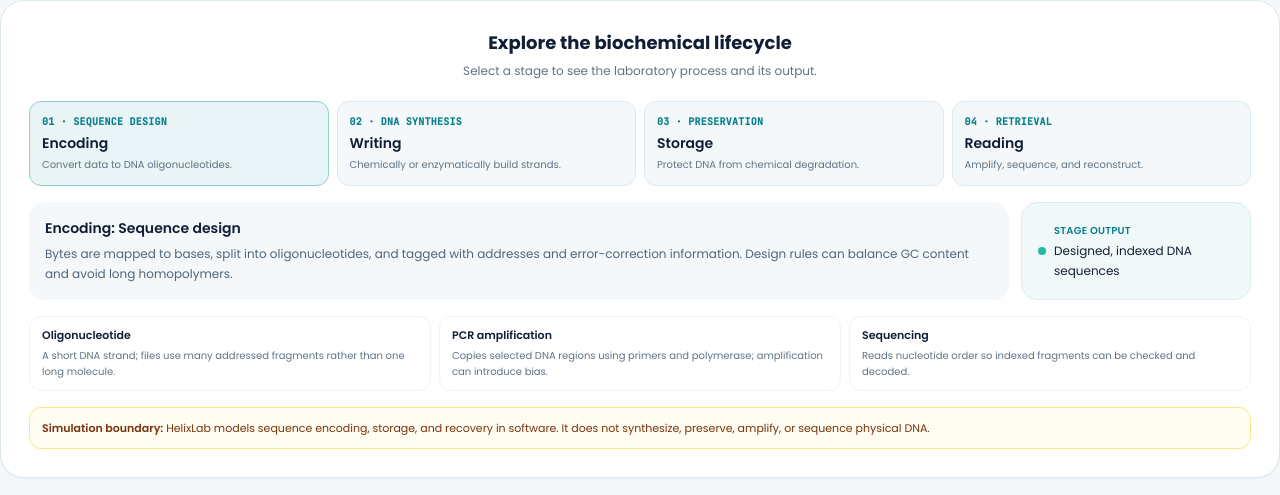
Test: interactive learning components › shows the selected biochemical lifecycle stage
Click the button named "WritingChemically or enzymatically": (421, 122) [336,101,636,186]
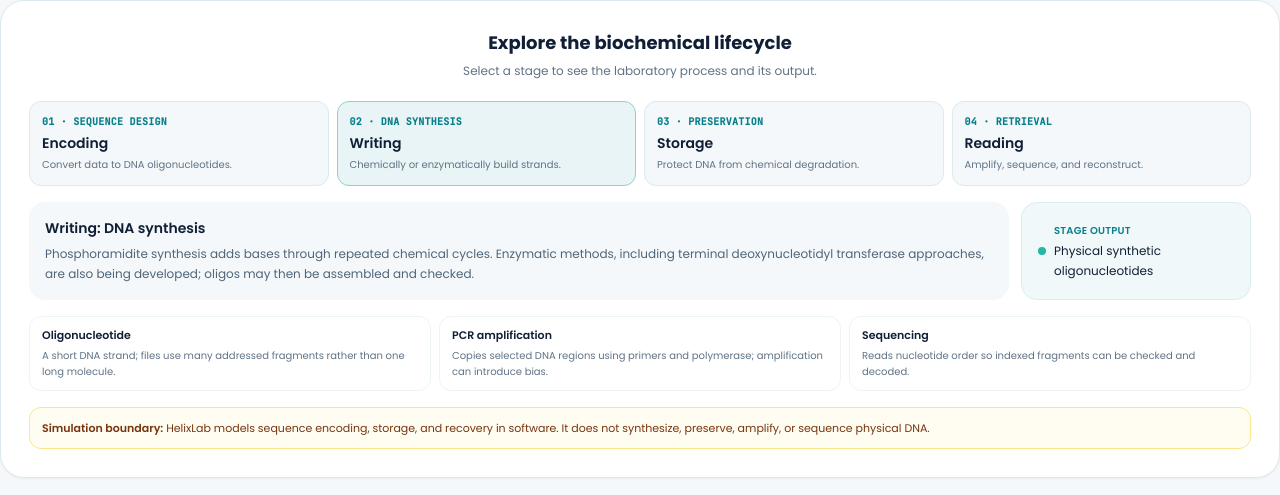
Check: the heading "Writing: DNA synthesis" is shown, box [45,218,206,238]
Check: the text "Physical synthetic oligonucleotides" is shown, box [1054,242,1161,279]
